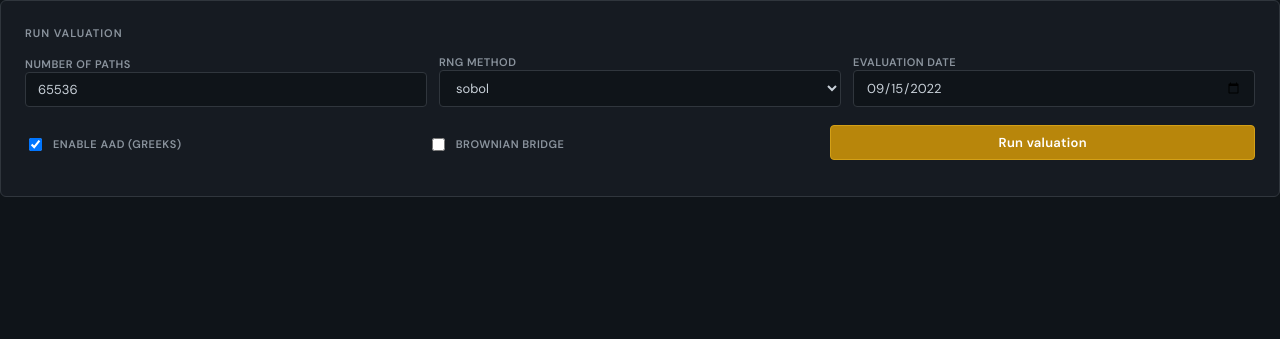
Test case: ValuationPanel › remains usable after the StrictMode effect replay
Click the button "Run valuation".
click(1043, 142)  # box [830,125,1255,160]
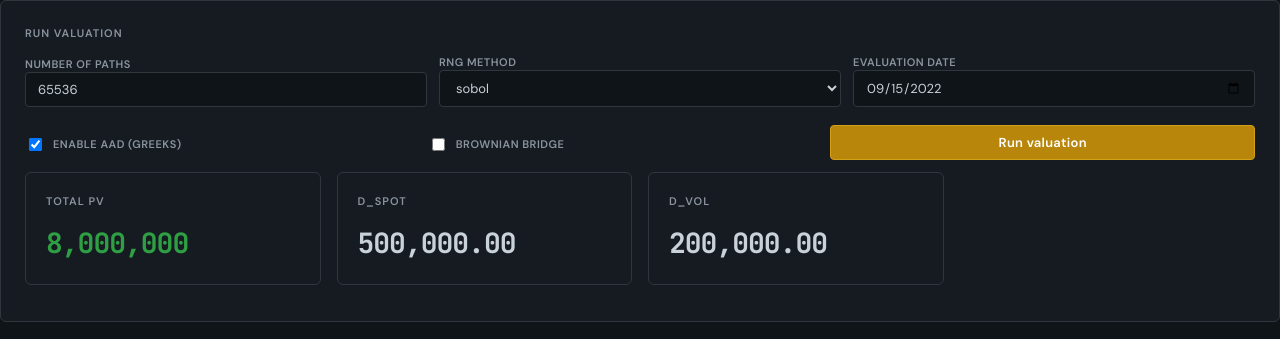
Expected: the heading "Total PV" is shown, [46,194,105,208]
